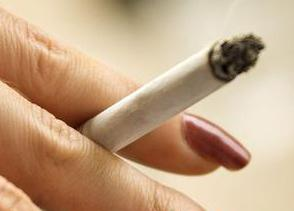smoke: (39, 30, 268, 180)
